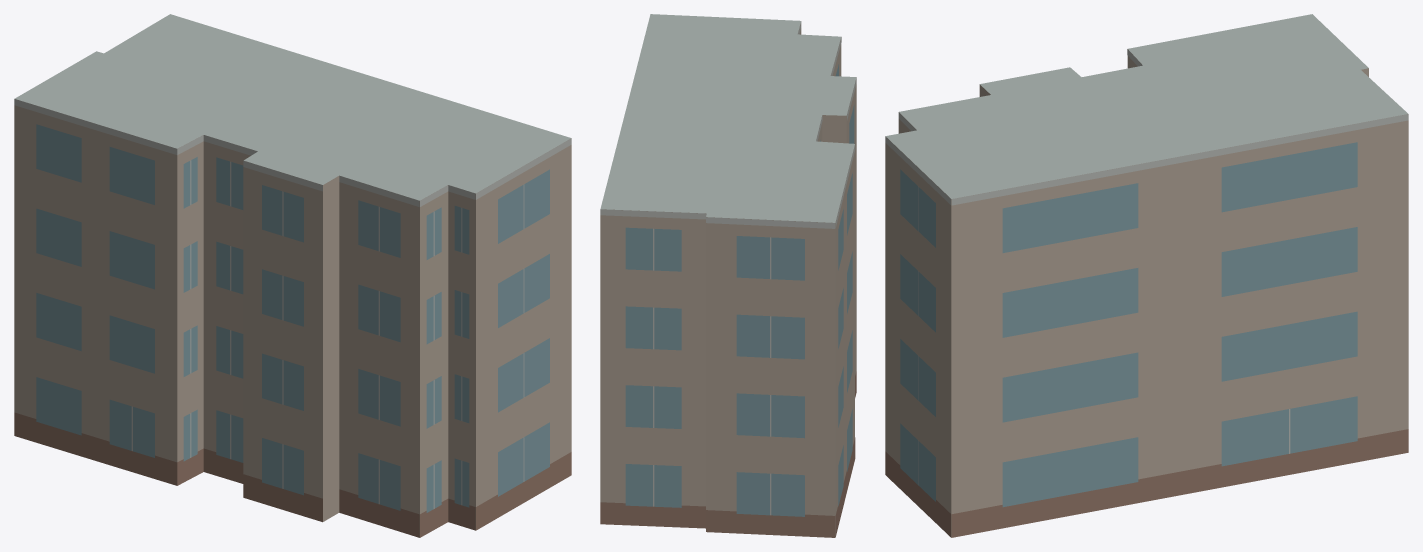
File: survey-upis-32713170.glb
3 renders of one model, left to right at view 1: azimuth 30°, elevation 25°; view 2: azimuth 150°, elevation 25°; view 3: azimuth 270°, elevation 25°, orthographic. The views are drawn at different scales.
Visible parts, largest first — view 1: survey-upis-32713170.tmp; view 2: survey-upis-32713170.tmp; view 3: survey-upis-32713170.tmp.
Part boxes in pixels (bbox=[...]): survey-upis-32713170.tmp: bbox=[14, 14, 571, 537]; survey-upis-32713170.tmp: bbox=[600, 14, 856, 537]; survey-upis-32713170.tmp: bbox=[885, 14, 1408, 537].
Bounding box in the file's own units: 14.9 × 12.7 × 17.79.
